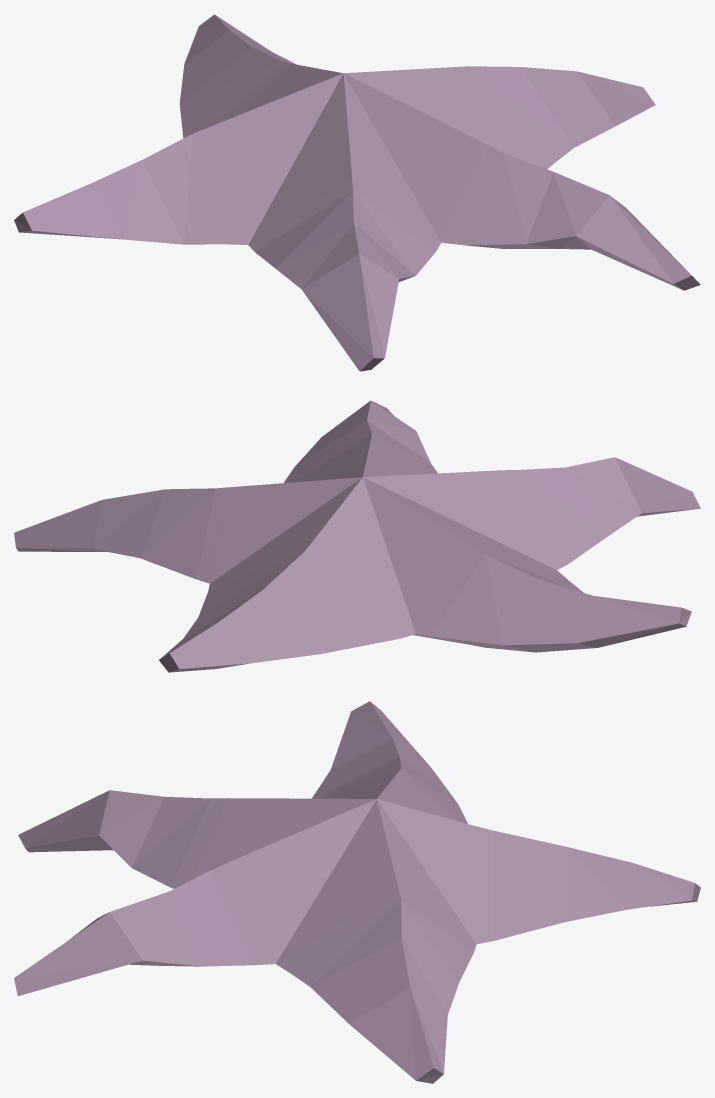
Rendered from BR_Starmie.obj.
The picture shows the model from 3 angles, top to bottom: view 1: azimuth 30°, elevation 25°; view 2: azimuth 150°, elevation 25°; view 3: azimuth 270°, elevation 25°; orthographic projection. The views are drawn at different scales.
Visible parts, largest first — view 1: starmie; view 2: starmie; view 3: starmie.
Boxes of the visible parts, x1,y1,x2,y2 form: starmie: (14,14,700,371); starmie: (14,400,700,672); starmie: (14,701,700,1083).
Size of the model in its own units: 11.76 by 2.61 by 10.88.
Materials: 1 (1 with a texture image).
